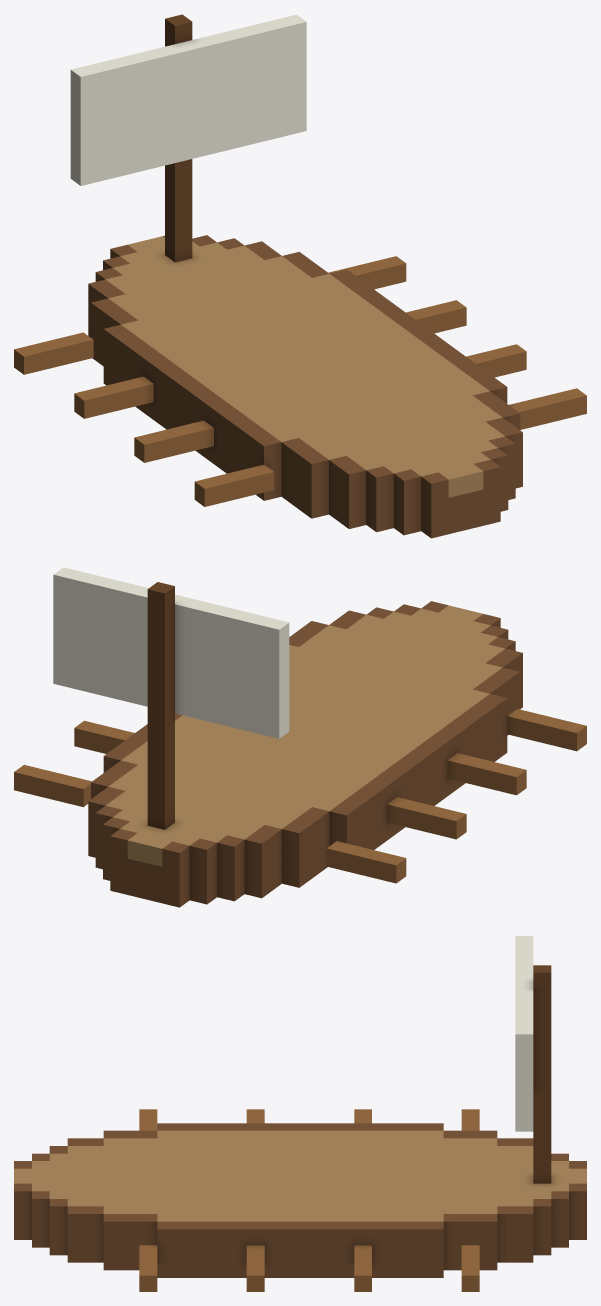
Rendered from u_transport.glb.
The picture shows the model from 3 angles, top to bottom: view 1: azimuth 30°, elevation 25°; view 2: azimuth 150°, elevation 25°; view 3: azimuth 270°, elevation 25°; orthographic projection. The views are drawn at different scales.
Visible parts, largest first — view 1: u_transport_body; view 2: u_transport_body; view 3: u_transport_body.
Part boxes in pixels (x1=…): u_transport_body: x1=14, y1=14, x2=586, y2=538; u_transport_body: x1=14, y1=567, x2=586, y2=907; u_transport_body: x1=14, y1=936, x2=586, y2=1291.
Size of the model in its own units: 1.38 by 1 by 2.
1 material, 1 textured.
